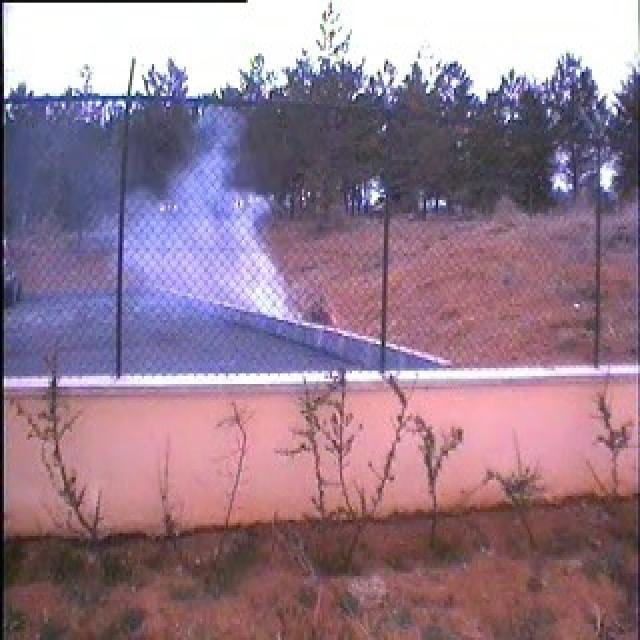Smoke: (124, 108, 290, 322)
